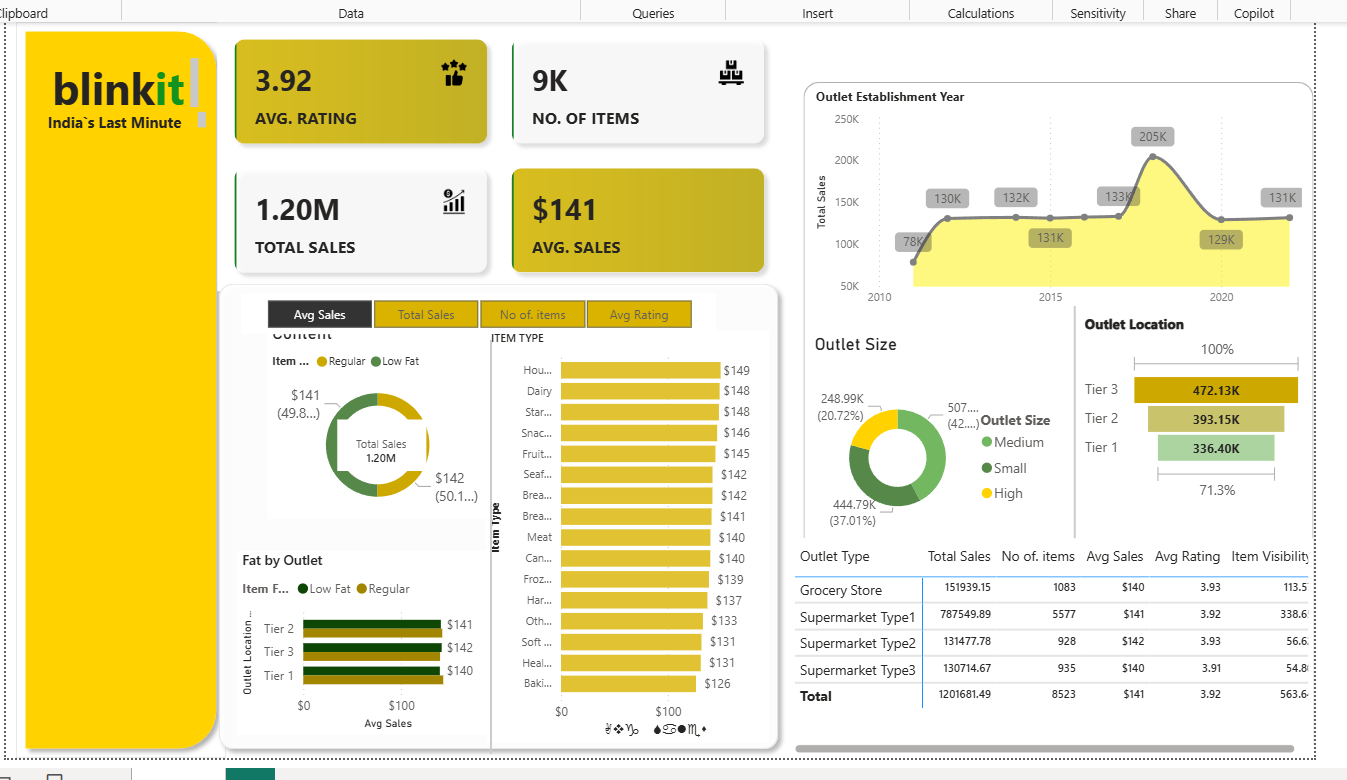

The dashboard page shown, as its layout file describes it:
{"tool":"powerbi","page":{"name":"Page 1","canvas":[1280,720],"ordinal":0},"visuals":[{"type":"shape","box":[10,0,205,720],"z":0},{"type":"textbox","box":[40.8,30.1,152.9,63.6],"z":1000},{"type":"textbox","box":[19.2,83.7,181.1,31.6],"z":2000},{"type":"cardVisual","fields":{"Data":["BlinkIT Grocery Data.Avg Rating","BlinkIT Grocery Data.No of. items","BlinkIT Grocery Data.Total Sales","BlinkIT Grocery Data.Avg Sales"]},"box":[206.4,0,552.7,262.9],"z":3000},{"type":"shape","box":[199.6,246.8,564.9,473.2],"z":4000},{"type":"donutChart","fields":{"Y":["BlinkIT Grocery Data.Avg Sales"],"Category":["BlinkIT Grocery Data.Item Fat Content"]},"box":[255.8,274.6,216.4,211.6],"z":5000},{"type":"slicer","fields":{"Values":["Metrics 2.Metrics"]},"box":[229.4,265.4,464.7,40.4],"z":6000},{"type":"cardVisual","fields":{"Data":["BlinkIT Grocery Data.Total Sales"]},"box":[324.5,388.4,86.8,50.1],"z":7000},{"type":"clusteredBarChart","title":"Fat by Outlet","fields":{"Y":["BlinkIT Grocery Data.Avg Sales"],"Category":["BlinkIT Grocery Data.Outlet Location Type"],"Series":["BlinkIT Grocery Data.Item Fat Content"]},"box":[226.7,517.3,249,179.8],"z":8000},{"type":"shape","box":[1128.7,314.3,146.3,406],"z":9000},{"type":"clusteredBarChart","title":"ITEM TYPE","fields":{"Y":["BlinkIT Grocery Data.Avg Sales"],"Category":["BlinkIT Grocery Data.Item Type"]},"box":[470,302.2,276.4,403.3],"z":10000},{"type":"shape","box":[780.2,58.2,498.9,662],"z":11000},{"type":"lineChart","title":"Outlet Establishment Year","fields":{"Category":["BlinkIT Grocery Data.Outlet Establishment Year"],"Y":["BlinkIT Grocery Data.Total Sales"]},"box":[787.3,65.3,485.5,221.3],"z":12000},{"type":"donutChart","title":"Outlet Size","fields":{"Category":["BlinkIT Grocery Data.Outlet Size"],"Y":["BlinkIT Grocery Data.Total Sales"]},"box":[786.3,304.5,255.1,225],"z":13000},{"type":"shape","box":[468.6,310.8,12.2,406],"z":14000},{"type":"shape","box":[1039.4,277.6,12.2,441.2],"z":15000},{"type":"funnel","title":"Outlet Location ","fields":{"Y":["Sum(BlinkIT Grocery Data.Sales)"],"Category":["BlinkIT Grocery Data.Outlet Location Type"]},"box":[1050.4,286.1,223.8,187.1],"z":16000},{"type":"pivotTable","fields":{"Rows":["BlinkIT Grocery Data.Outlet Type"],"Values":["BlinkIT Grocery Data.Total Sales","BlinkIT Grocery Data.No of. items","BlinkIT Grocery Data.Avg Sales","BlinkIT Grocery Data.Avg Rating","Sum(BlinkIT Grocery Data.Item Visibility)"]},"box":[766.7,505,512.1,215.2],"z":17000}]}

Visuals, with their boxes on the page's 1280x720 design canvas (x1, y1, x2, y2). These are canvas units, not pixel positions in the 1347x780 screenshot, which may show the page scaled, cropped or inside an application window:
shape: pyautogui.locateOnScreen(10, 0, 215, 720)
textbox: pyautogui.locateOnScreen(41, 30, 194, 94)
textbox: pyautogui.locateOnScreen(19, 84, 200, 115)
cardVisual - BlinkIT Grocery Data.Avg Rating x BlinkIT Grocery Data.No of. items: pyautogui.locateOnScreen(206, 0, 759, 263)
shape: pyautogui.locateOnScreen(200, 247, 764, 720)
donutChart - BlinkIT Grocery Data.Avg Sales x BlinkIT Grocery Data.Item Fat Content: pyautogui.locateOnScreen(256, 275, 472, 486)
slicer - Metrics 2.Metrics: pyautogui.locateOnScreen(229, 265, 694, 306)
cardVisual - BlinkIT Grocery Data.Total Sales: pyautogui.locateOnScreen(324, 388, 411, 438)
"Fat by Outlet" clusteredBarChart: pyautogui.locateOnScreen(227, 517, 476, 697)
shape: pyautogui.locateOnScreen(1129, 314, 1275, 720)
"ITEM TYPE" clusteredBarChart: pyautogui.locateOnScreen(470, 302, 746, 706)
shape: pyautogui.locateOnScreen(780, 58, 1279, 720)
"Outlet Establishment Year" lineChart: pyautogui.locateOnScreen(787, 65, 1273, 287)
"Outlet Size" donutChart: pyautogui.locateOnScreen(786, 304, 1041, 530)
shape: pyautogui.locateOnScreen(469, 311, 481, 717)
shape: pyautogui.locateOnScreen(1039, 278, 1052, 719)
"Outlet Location " funnel: pyautogui.locateOnScreen(1050, 286, 1274, 473)
pivotTable - BlinkIT Grocery Data.Outlet Type x BlinkIT Grocery Data.Total Sales: pyautogui.locateOnScreen(767, 505, 1279, 720)
